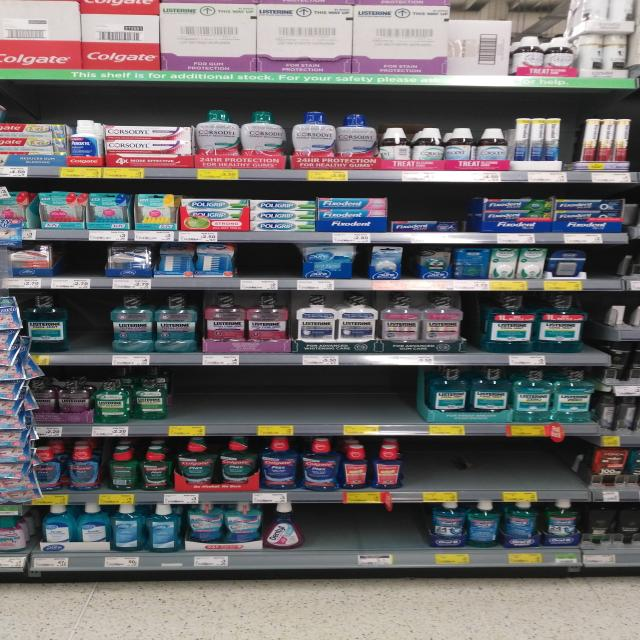void: (338, 363, 383, 436), (243, 366, 289, 435), (409, 437, 458, 500), (384, 365, 428, 434), (291, 365, 335, 434), (383, 501, 427, 565), (303, 500, 344, 566), (203, 367, 242, 436), (504, 439, 546, 502), (460, 438, 502, 500), (72, 292, 108, 364), (344, 503, 384, 567), (170, 366, 204, 436), (549, 440, 587, 502), (246, 244, 296, 291), (60, 241, 104, 289), (588, 247, 628, 290)
